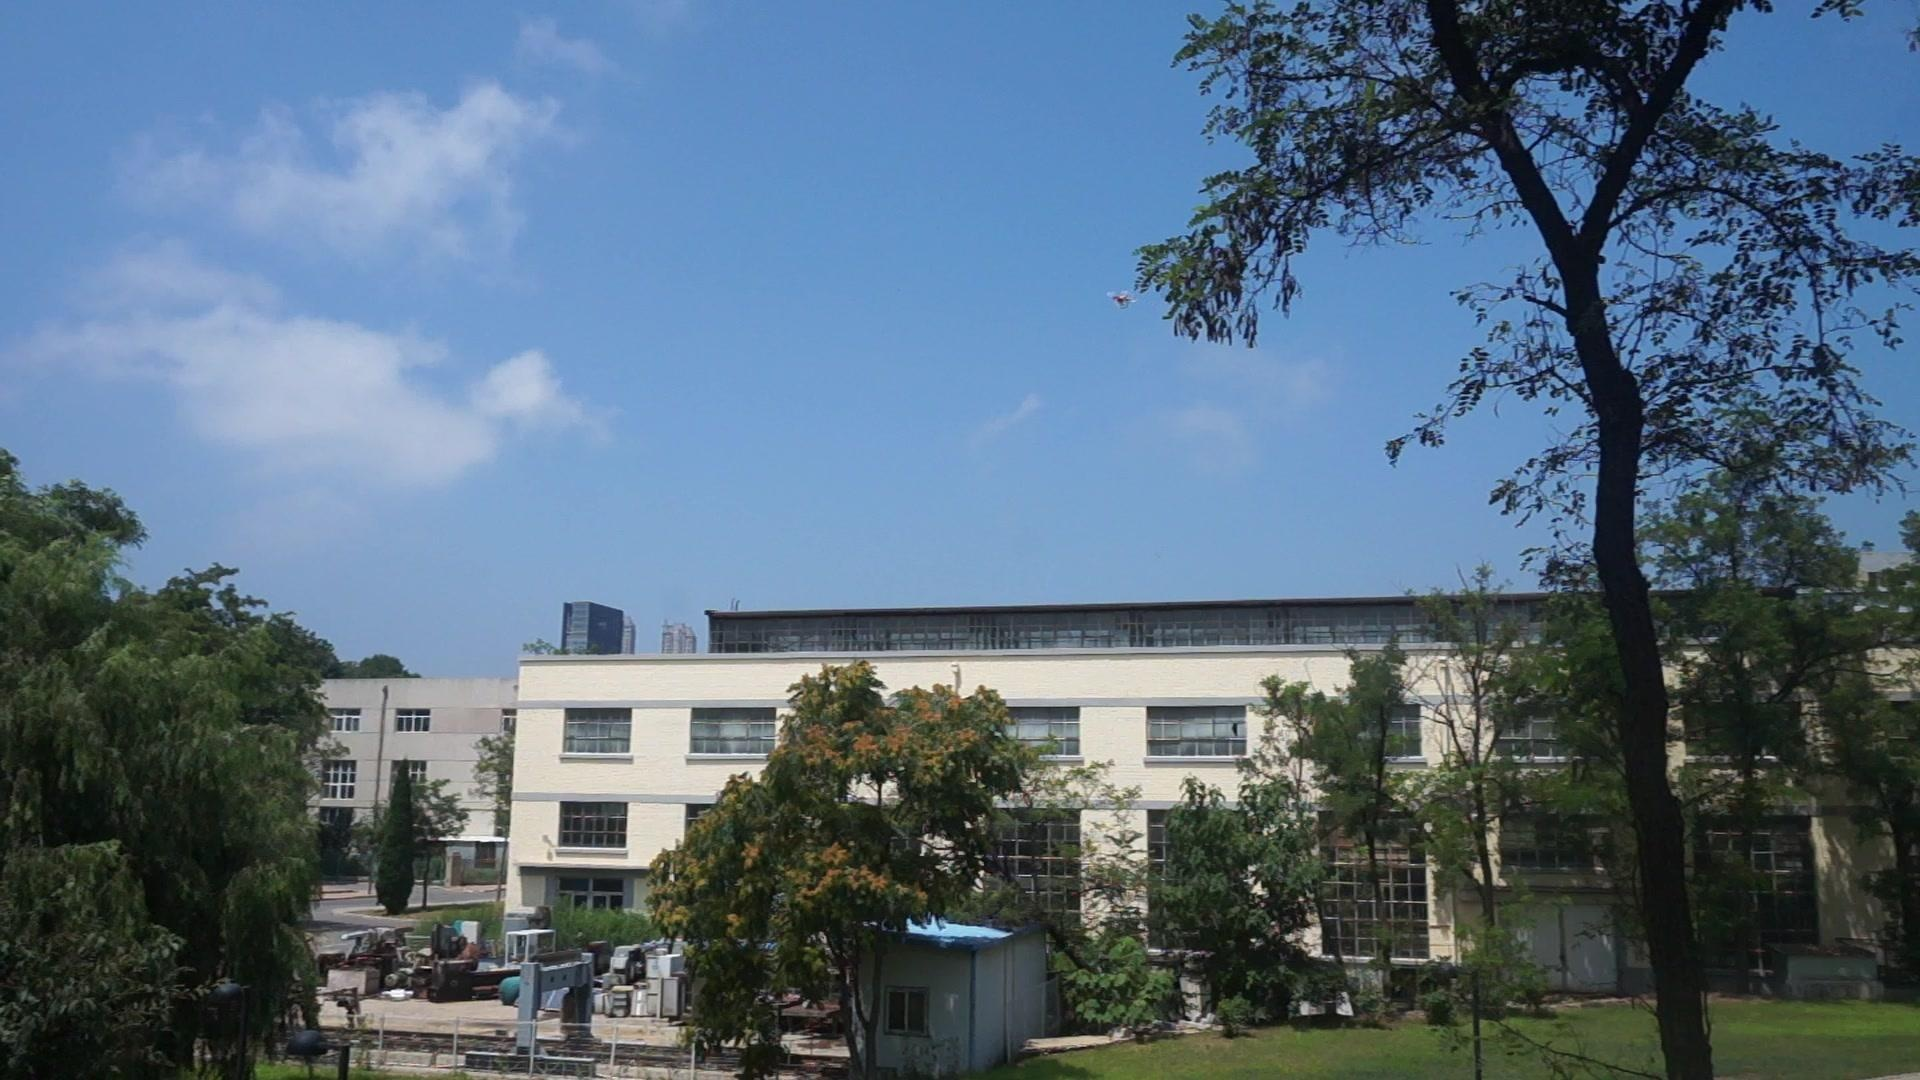UAV: (1108, 289, 1138, 313)
